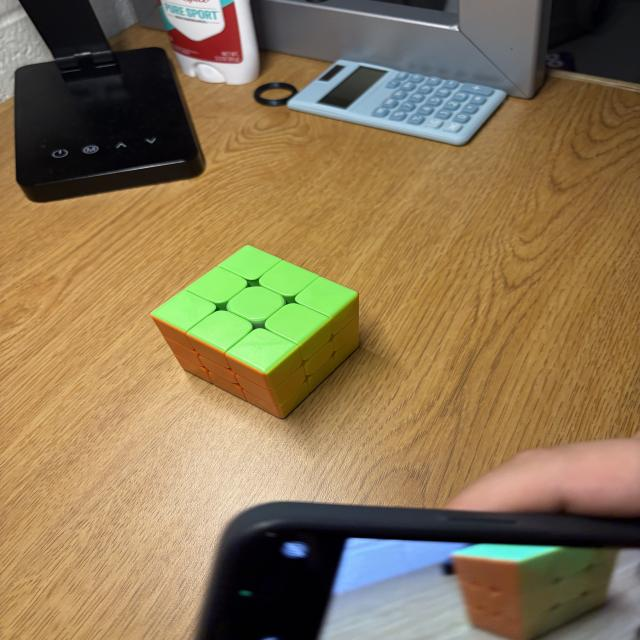Rubiks Cube: (149, 242, 362, 422), (454, 545, 618, 640)
